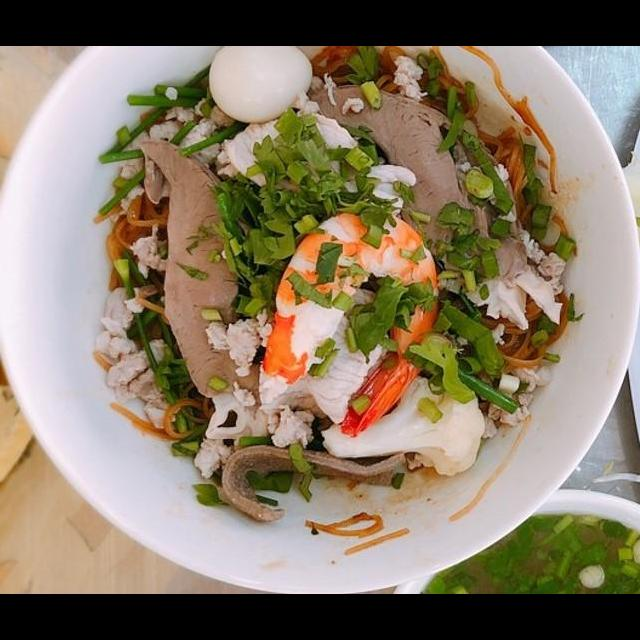gan: (289, 81, 535, 294), (134, 133, 286, 410)
thit bam: (89, 281, 185, 432), (104, 91, 234, 187), (183, 402, 320, 486), (467, 354, 553, 443), (200, 305, 281, 380)
thit heo: (209, 103, 421, 224), (252, 279, 395, 426)
tom: (257, 202, 444, 442)
trung: (205, 47, 316, 126)
